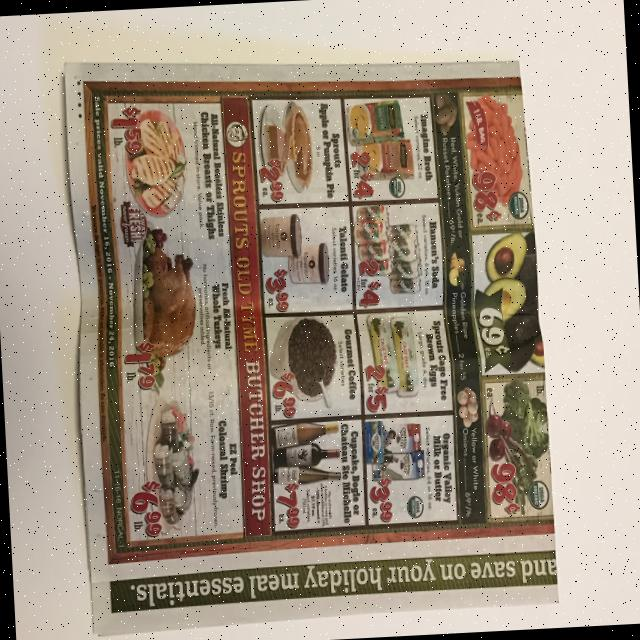paper: (62, 33, 560, 640)
